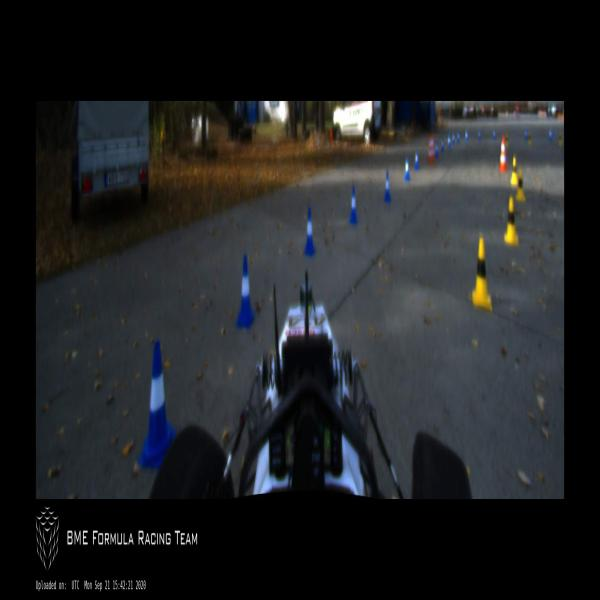blue_cone: (137, 340, 177, 467), (234, 255, 254, 329), (303, 208, 315, 256), (350, 184, 358, 224), (384, 170, 391, 202), (404, 156, 410, 180), (414, 148, 419, 168), (435, 142, 439, 158), (548, 127, 552, 141), (524, 127, 528, 140), (452, 131, 455, 145), (493, 126, 496, 140), (441, 138, 444, 151), (465, 129, 468, 142), (479, 128, 482, 140), (457, 131, 459, 144), (448, 135, 450, 147)
large_orange_cone: (499, 134, 508, 172), (428, 135, 434, 164)
yellow_cone: (472, 237, 492, 311), (504, 196, 519, 246), (516, 168, 525, 202), (510, 157, 518, 183), (528, 131, 532, 146), (558, 132, 562, 146), (506, 133, 508, 147)
